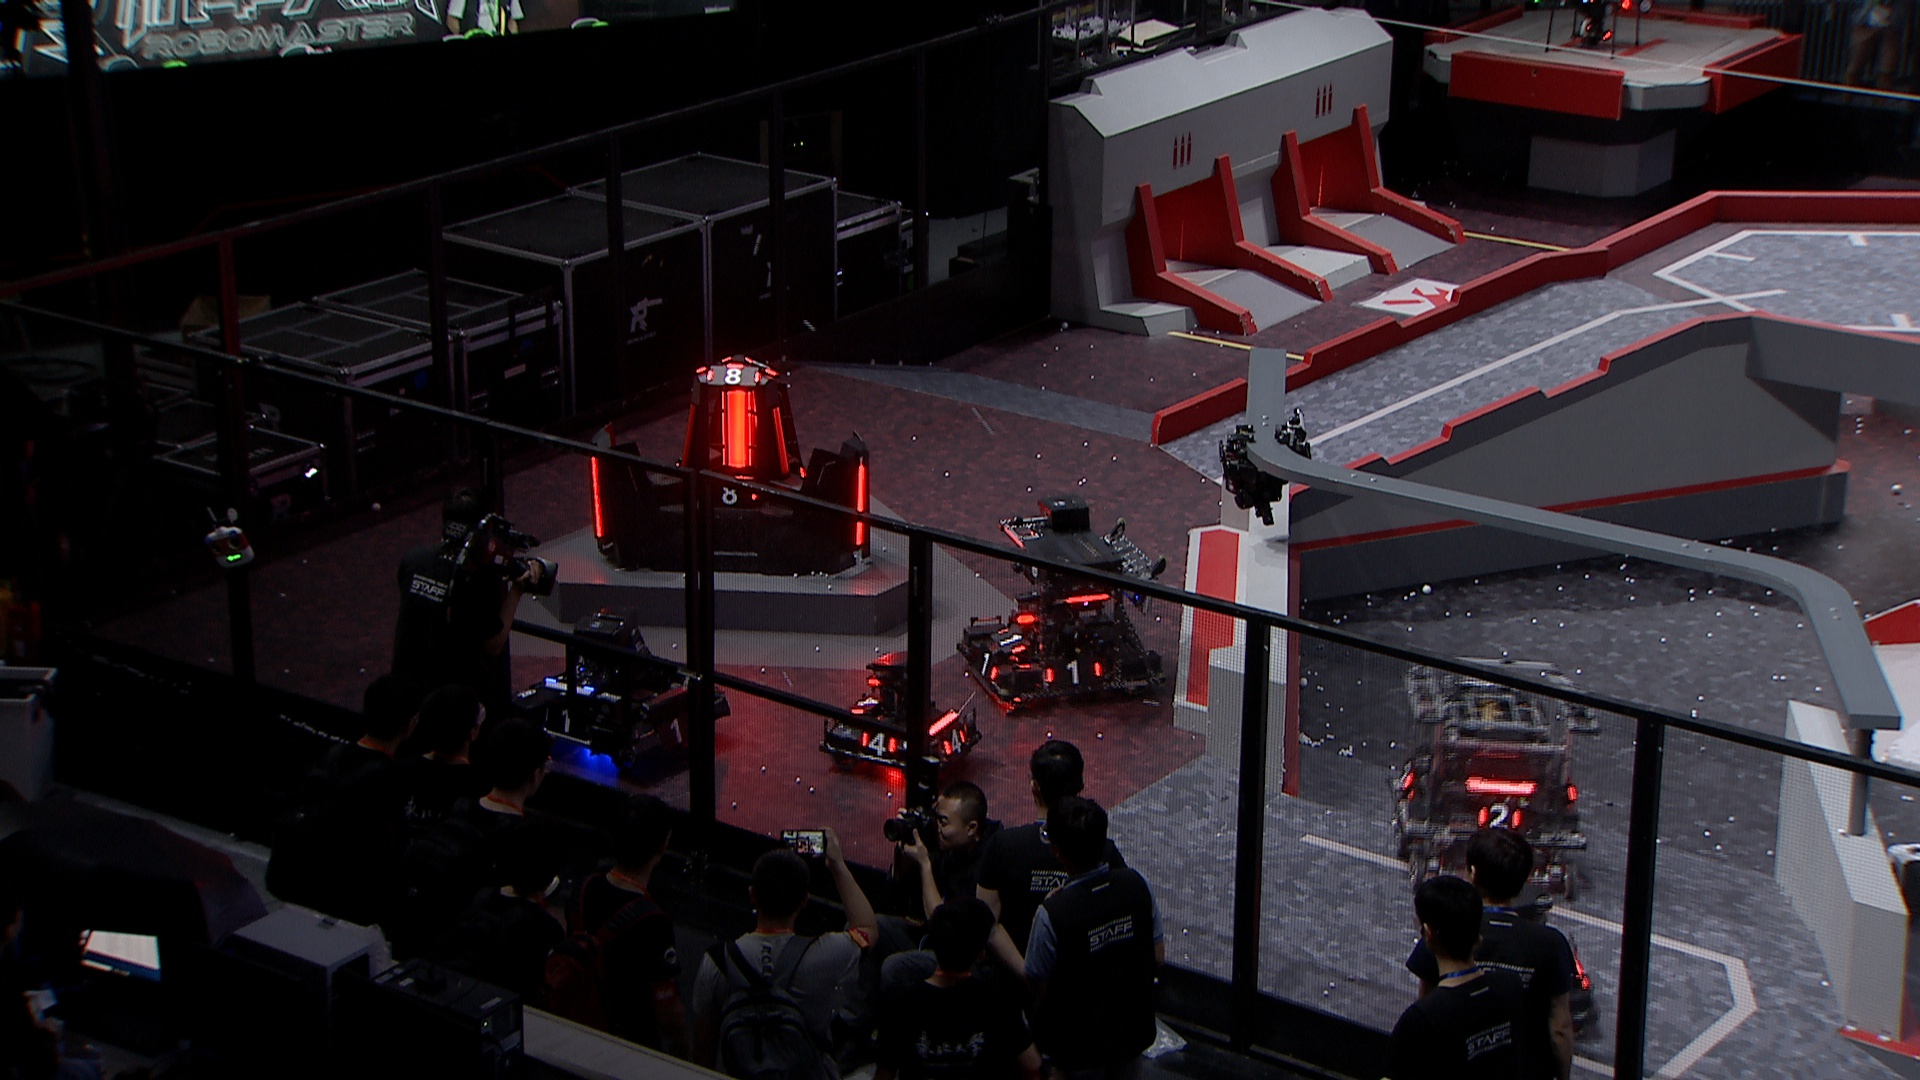armor: (717, 389, 764, 471), (1040, 659, 1106, 688), (769, 405, 795, 475), (589, 456, 607, 541), (679, 401, 699, 472), (1476, 800, 1522, 831), (702, 367, 764, 386), (541, 709, 585, 736), (855, 465, 869, 546), (713, 485, 760, 509), (994, 624, 1029, 655), (858, 731, 899, 757), (662, 717, 694, 749), (973, 650, 1001, 683), (940, 728, 968, 754), (847, 695, 880, 716), (1395, 760, 1416, 793)
base: (576, 353, 878, 580)
car: (1381, 655, 1604, 910), (951, 495, 1168, 716), (510, 608, 727, 778), (820, 647, 984, 785)
watcher: (1218, 407, 1317, 527)
